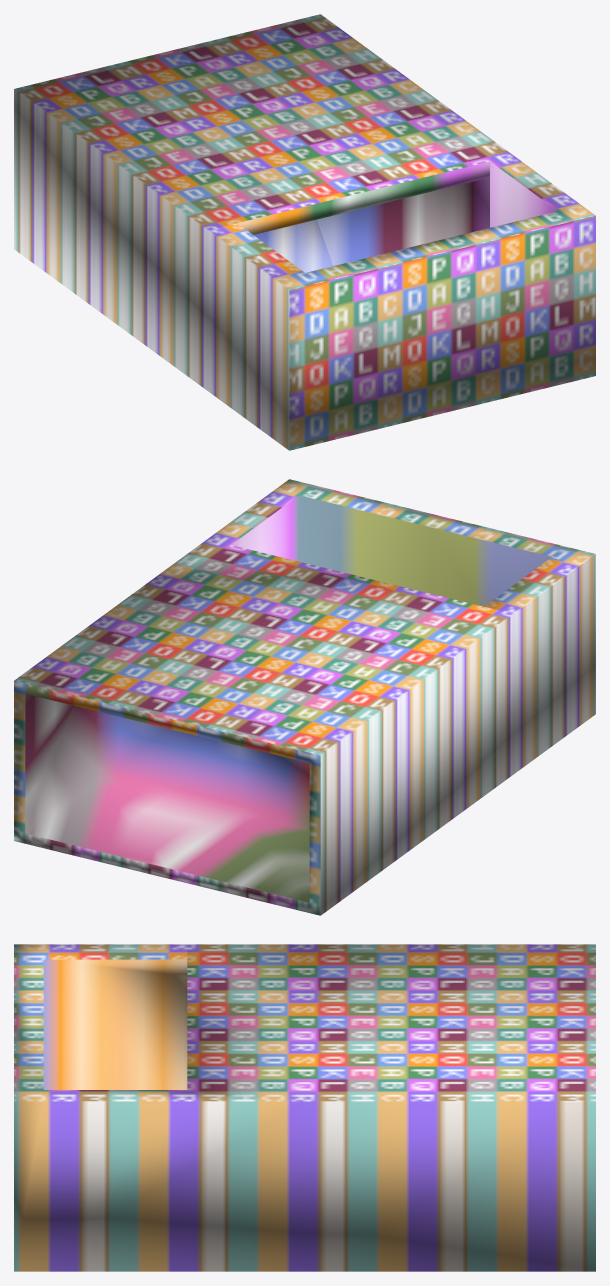
The model's file is handgun_ammo.obj.
The picture shows the model from 3 angles, top to bottom: view 1: azimuth 30°, elevation 25°; view 2: azimuth 150°, elevation 25°; view 3: azimuth 270°, elevation 25°; orthographic projection. The views are drawn at different scales.
Parts seen in each view (by area): view 1: cube2; view 2: cube2; view 3: cube2.
Part boxes in pixels (box(x1,y1,x2,y2)): cube2: box(14, 14, 595, 450); cube2: box(14, 479, 595, 915); cube2: box(14, 944, 595, 1271).
Bounding box in the file's own units: 0.8 × 0.3996 × 1.24.
1 material, 1 textured.
